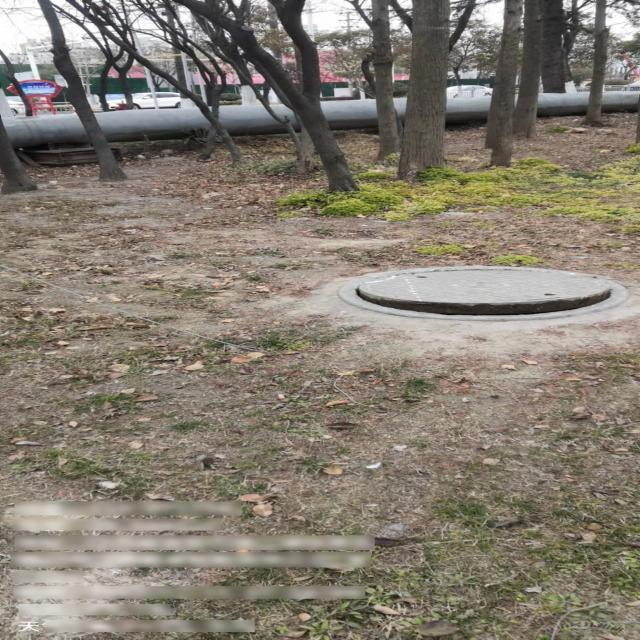Faulty: (340, 265, 628, 320)
